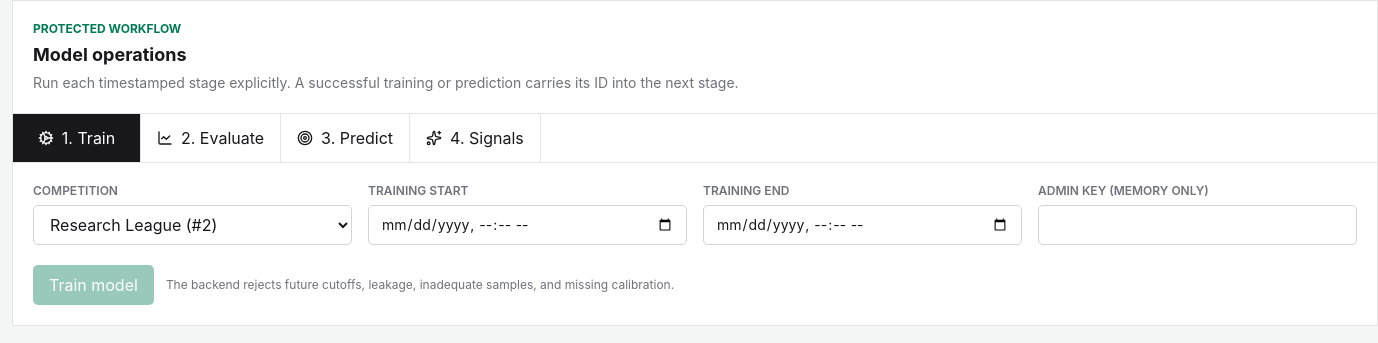
Test: ModelOperations › exposes the four explicit stages and carries stored identifiers into their controls
Expected: the dropdown labelled "Competition" shows "Research League (#2)", left=33, top=205, right=352, bottom=245
Click the button "2. Evaluate" at {"x": 211, "y": 138}, box left=141, top=114, right=281, bottom=162
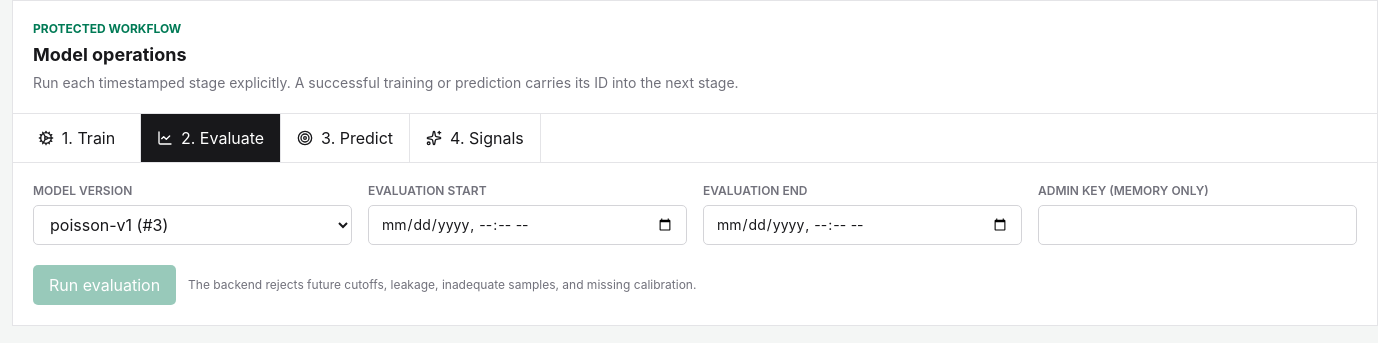
Now the dropdown labelled "Model version" shows "poisson-v1 (#3)", box left=33, top=205, right=352, bottom=245
Click the button "3. Predict" at {"x": 346, "y": 138}, box left=281, top=114, right=410, bottom=162
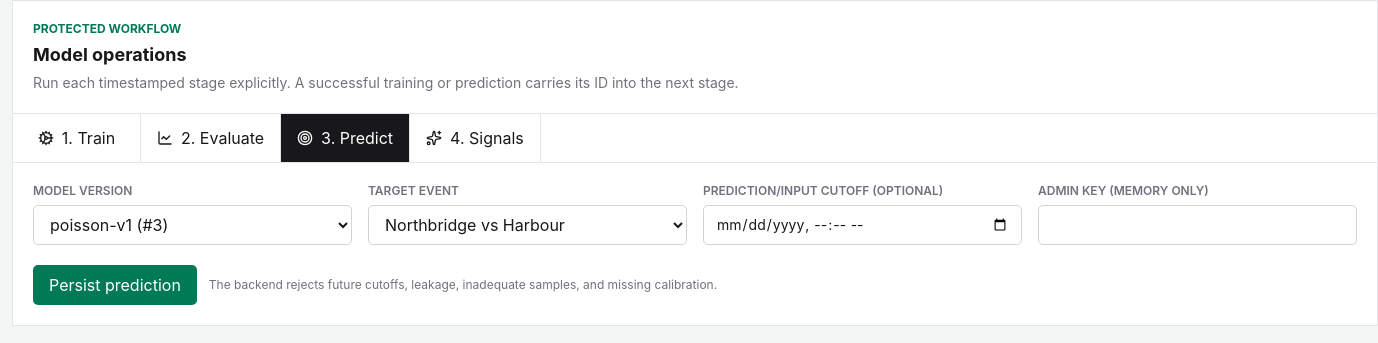
Now the dropdown labelled "Target event" shows "Northbridge vs Harbour", box left=368, top=205, right=687, bottom=245
Click the button "4. Signals" at {"x": 475, "y": 138}, box left=410, top=114, right=541, bottom=162
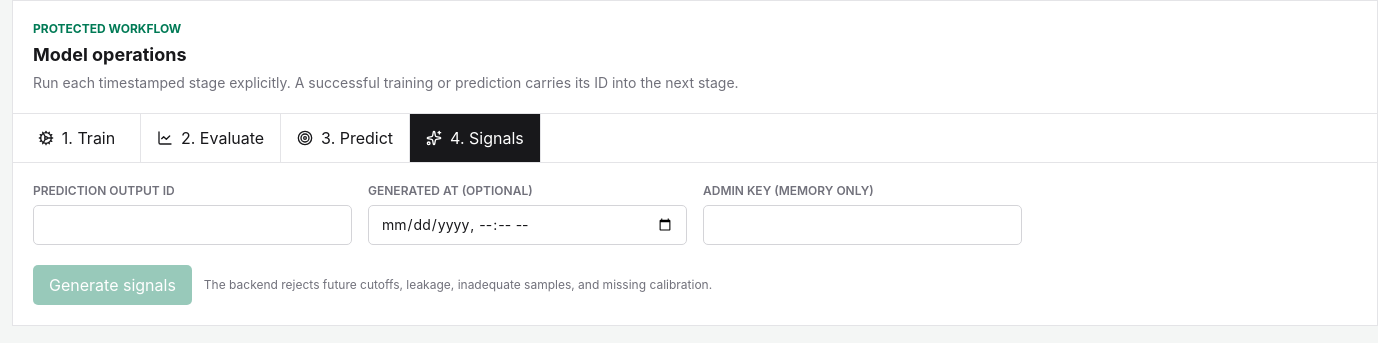
Now the number field labelled "Prediction output ID" is shown, box left=33, top=205, right=352, bottom=245
